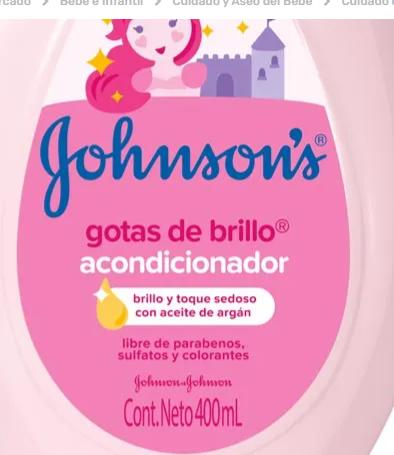brand: (32, 104, 342, 213)
extra_detail: (82, 212, 278, 249)
net_weight: (195, 391, 250, 431)
product_name: (80, 249, 293, 281)
